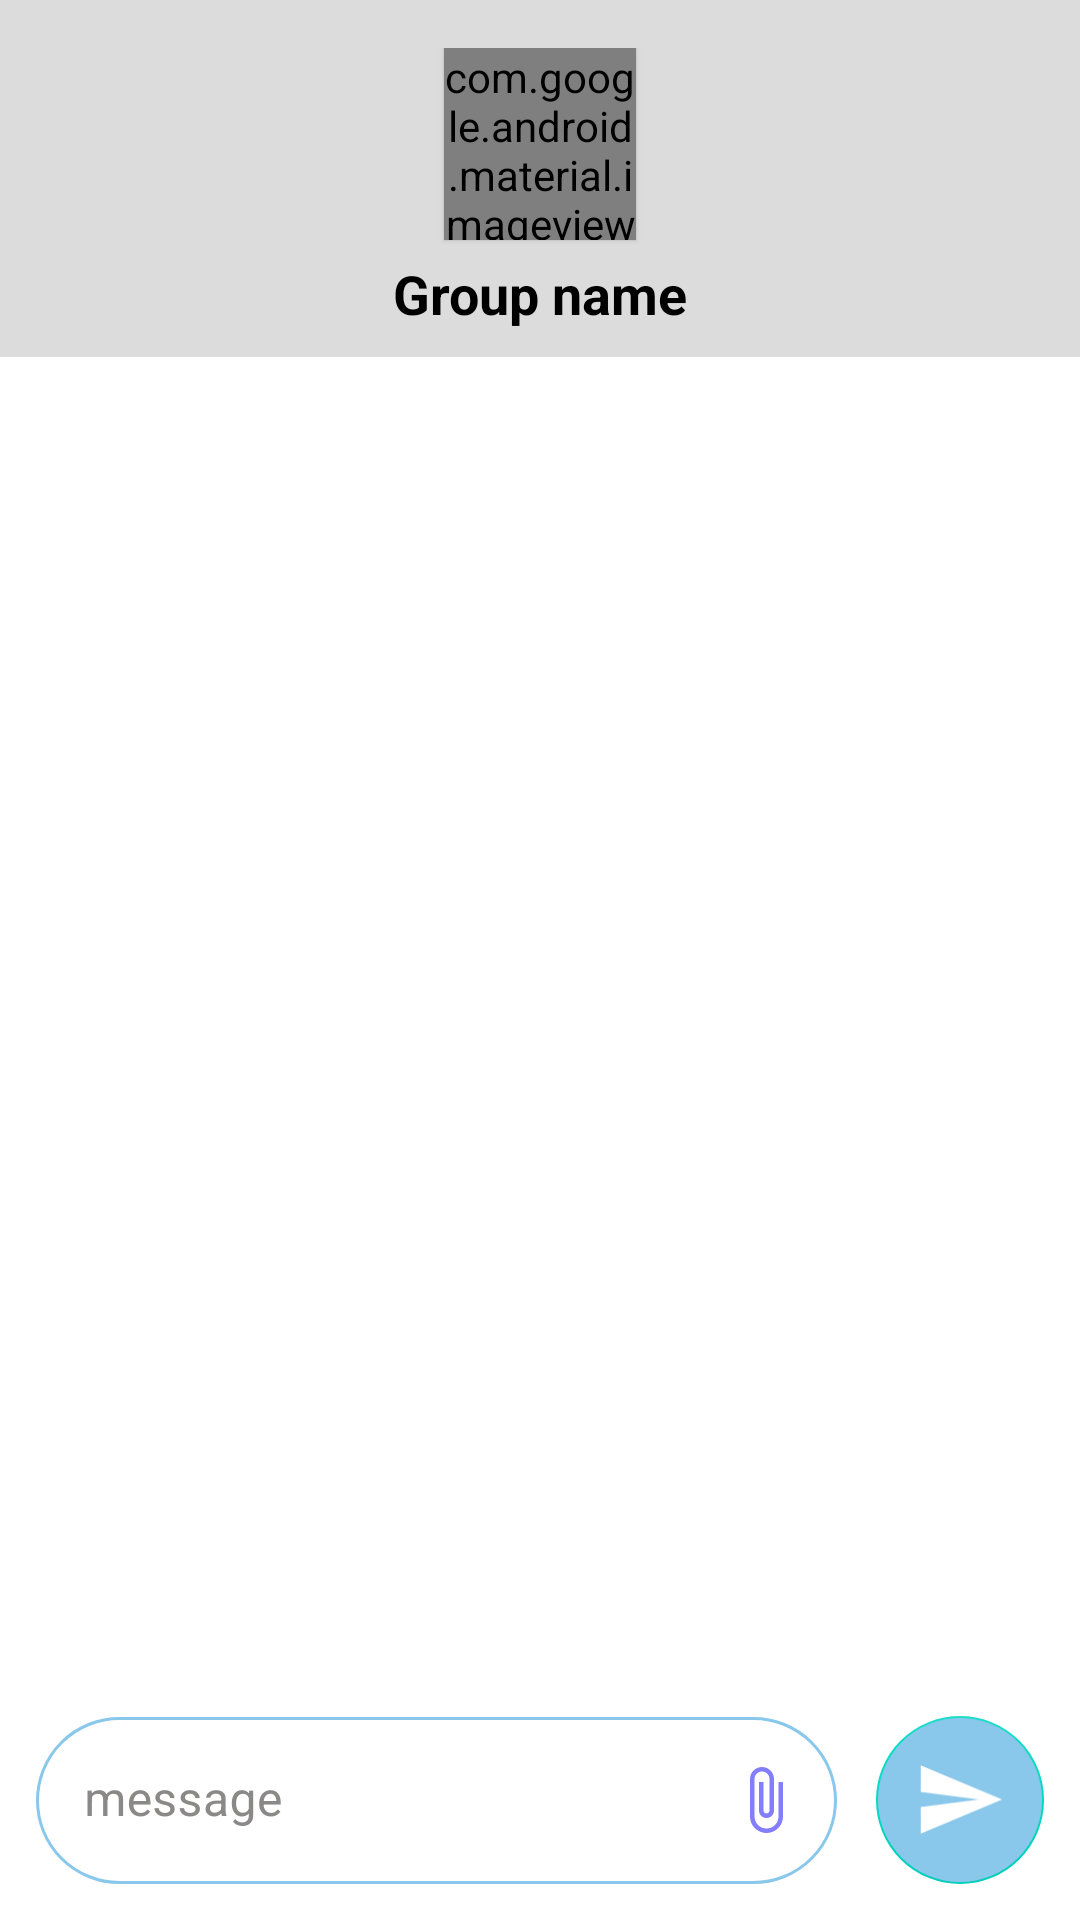

Where to tap for icons on this 1080 × 1920 app screen, as (x,y):
Send Button: (960,1800)
